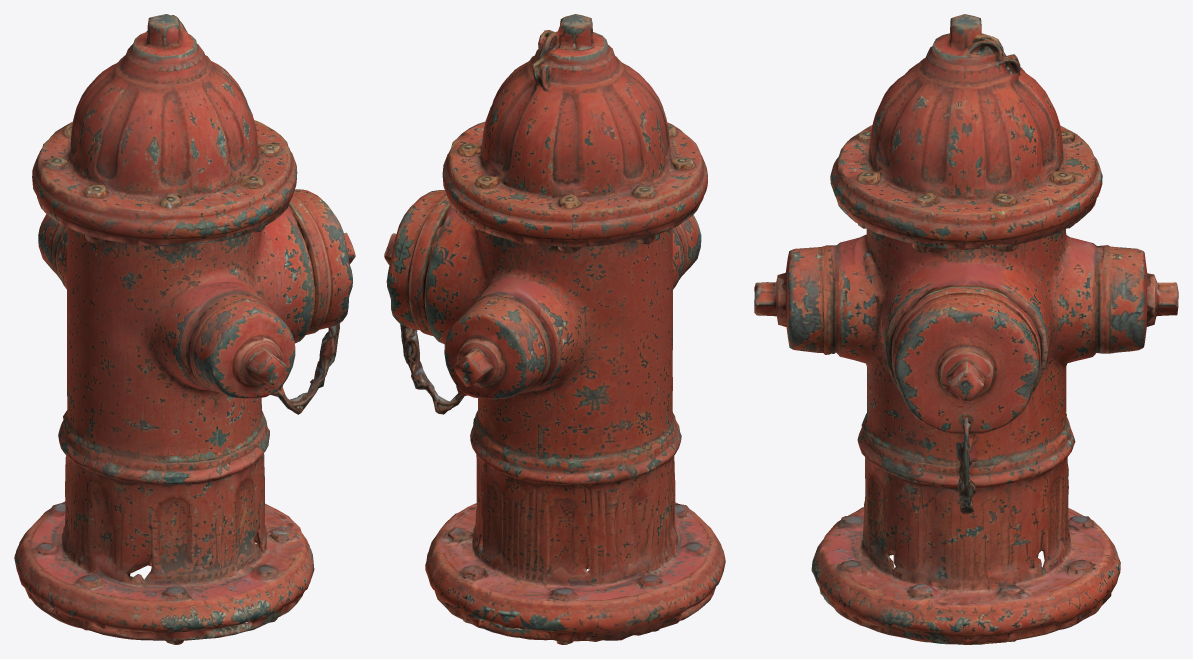
Rendered from FireHydrant.glb.
The picture shows the model from 3 angles, left to right: view 1: azimuth 30°, elevation 25°; view 2: azimuth 150°, elevation 25°; view 3: azimuth 270°, elevation 25°; orthographic projection.
Parts seen in each view (by area): view 1: texture_mapping; view 2: texture_mapping; view 3: texture_mapping.
Part boxes in pixels (x1=…): texture_mapping: x1=14, y1=14, x2=355, y2=644; texture_mapping: x1=384, y1=14, x2=725, y2=644; texture_mapping: x1=754, y1=14, x2=1178, y2=644.
Bounding box in the file's own units: 0.5784 × 1 × 0.6747.
Materials: 1 (1 with a texture image).
